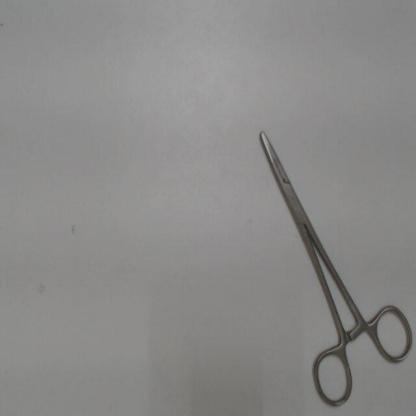Mayo Needle Holder: (249, 116, 416, 411)
